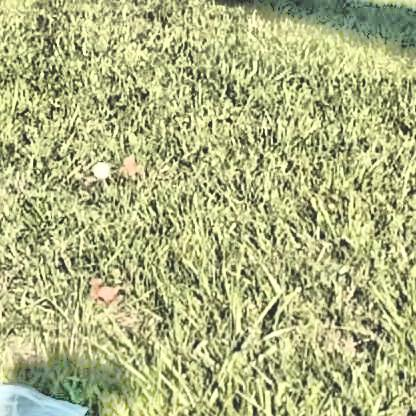golfball: (90, 158, 107, 177)
